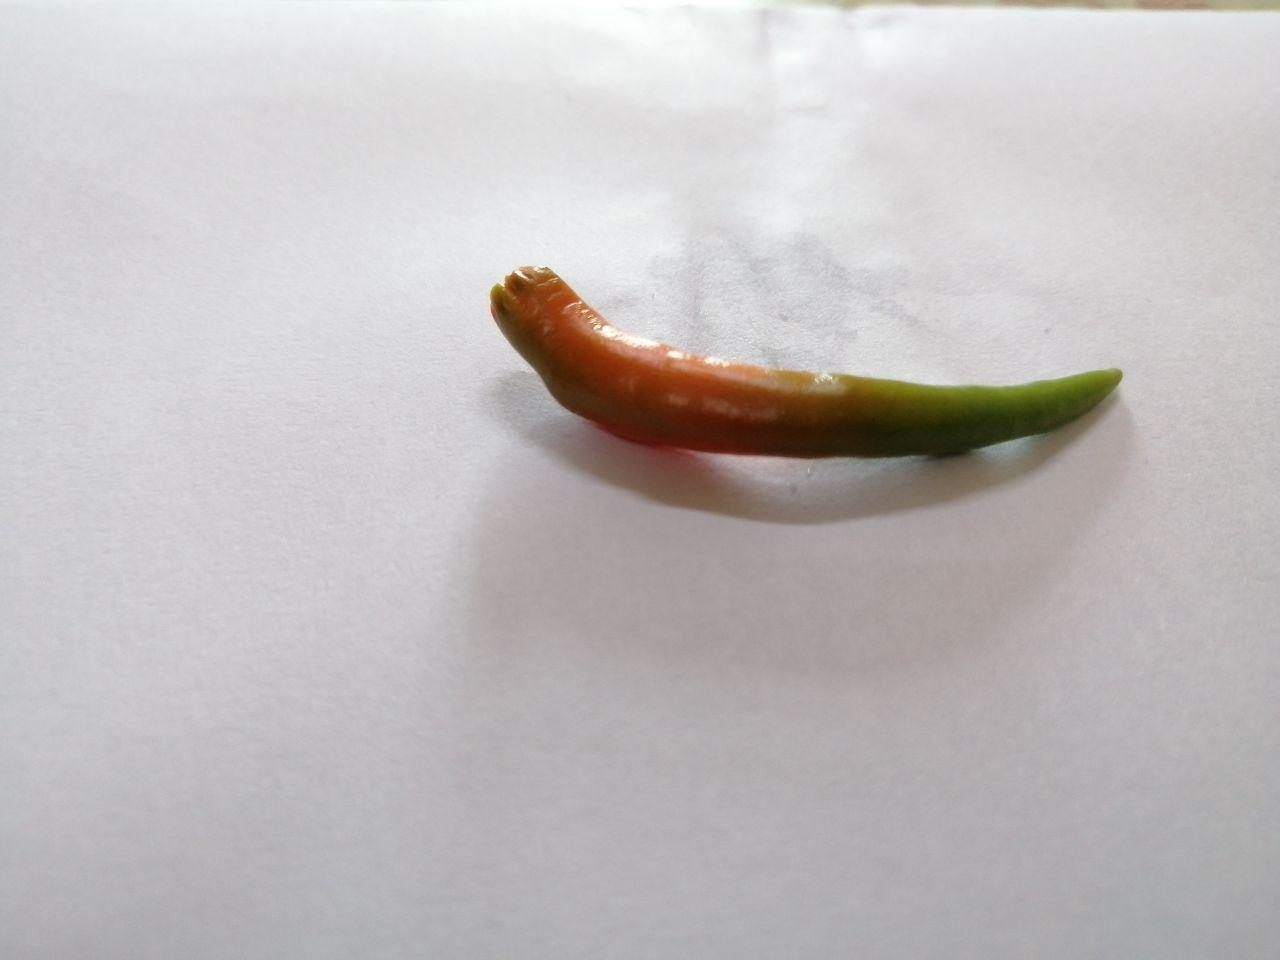lada kuning: (477, 242, 1160, 489)
